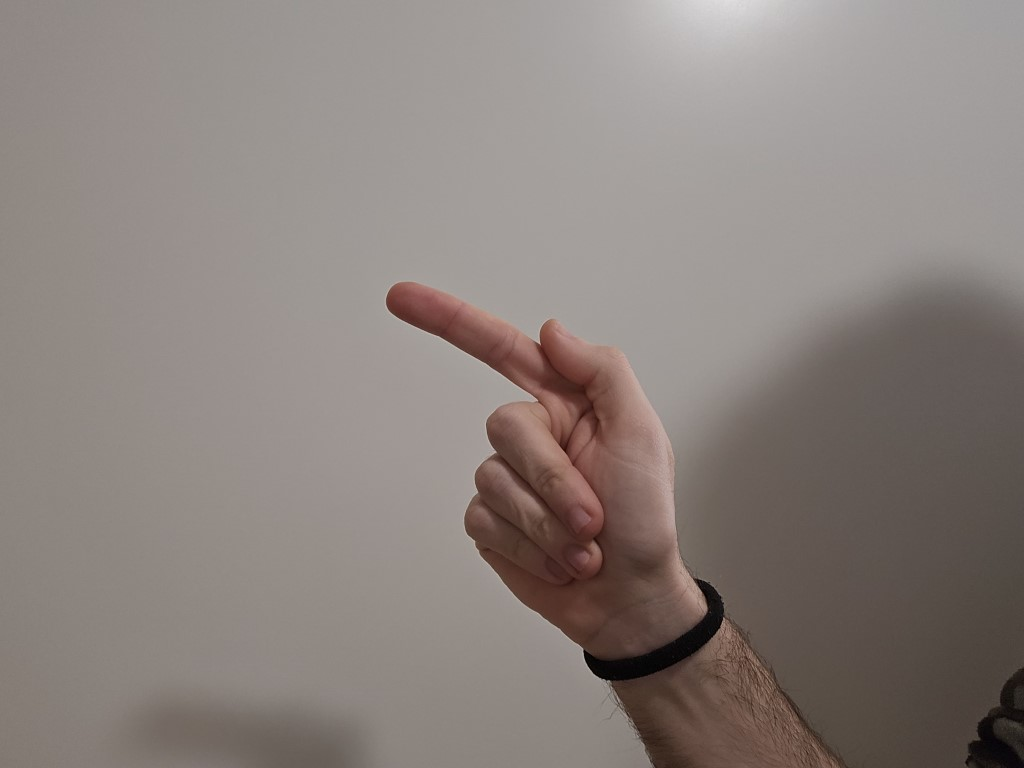g: (335, 255, 688, 622)
